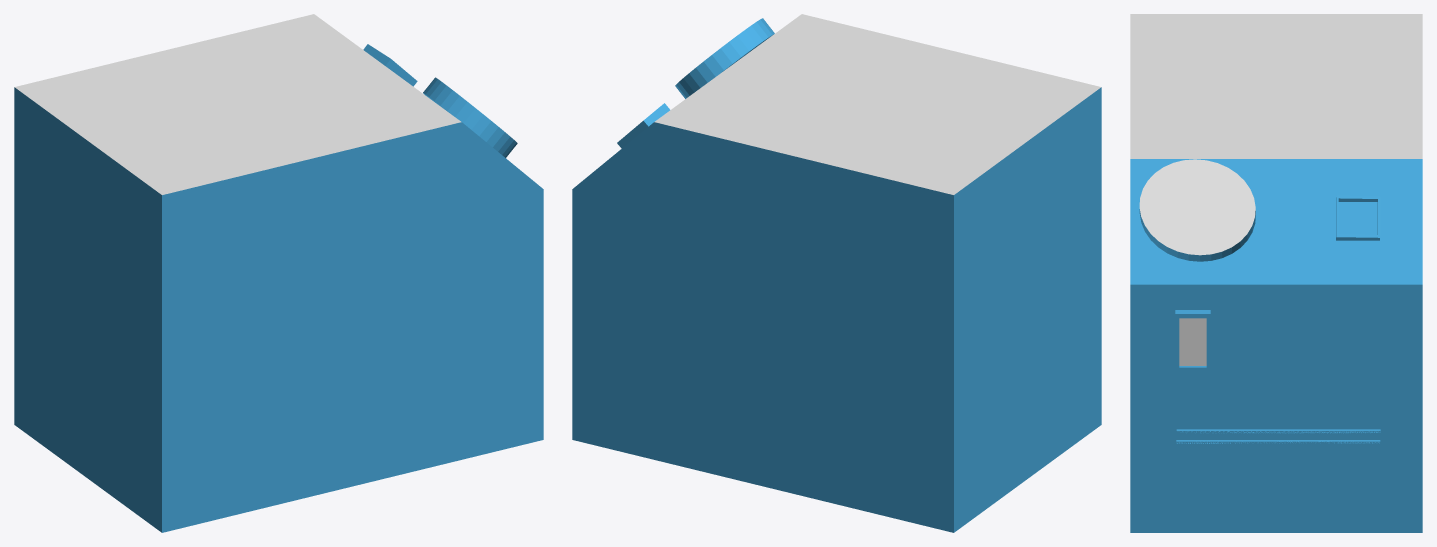
The model's file is chiller.glb.
The picture shows the model from 3 angles, left to right: view 1: azimuth 30°, elevation 25°; view 2: azimuth 150°, elevation 25°; view 3: azimuth 270°, elevation 25°; orthographic projection.
Visible parts, largest first — view 1: Cube; view 2: Cube; view 3: Cube.
Part boxes in pixels (bbox=[...]): Cube: bbox=[14, 14, 543, 532]; Cube: bbox=[572, 14, 1101, 532]; Cube: bbox=[1130, 14, 1422, 532].
Size of the model in its own units: 2.42 by 2.05 by 1.59.
